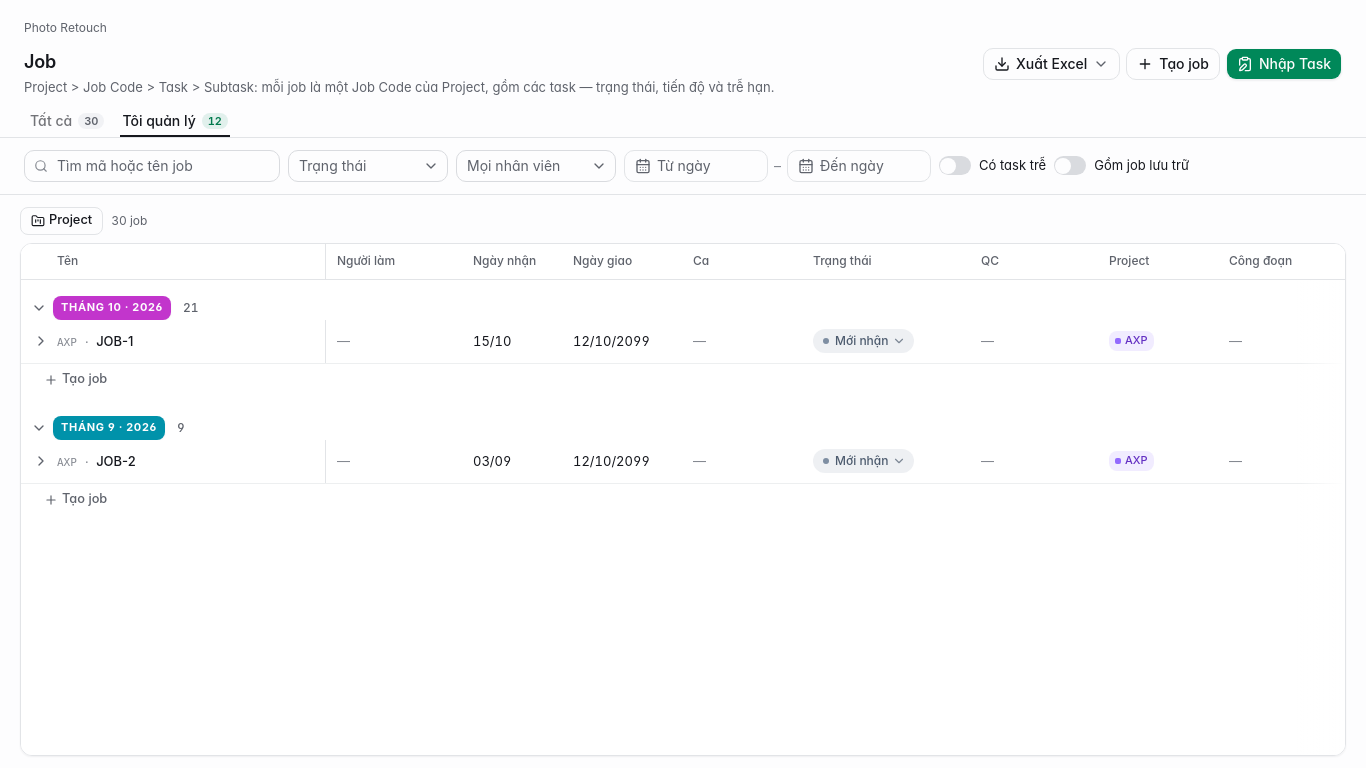
/production/jobs — List view (PD-067) › tablets start with the sidebar folded (room for the table) until the user opens it
This screenshot has width=1366, height=768.
Expected: the row "JOB-1" is shown, [21,320,1346,364]
Click the button "Project": (62, 221) [20,207,103,235]
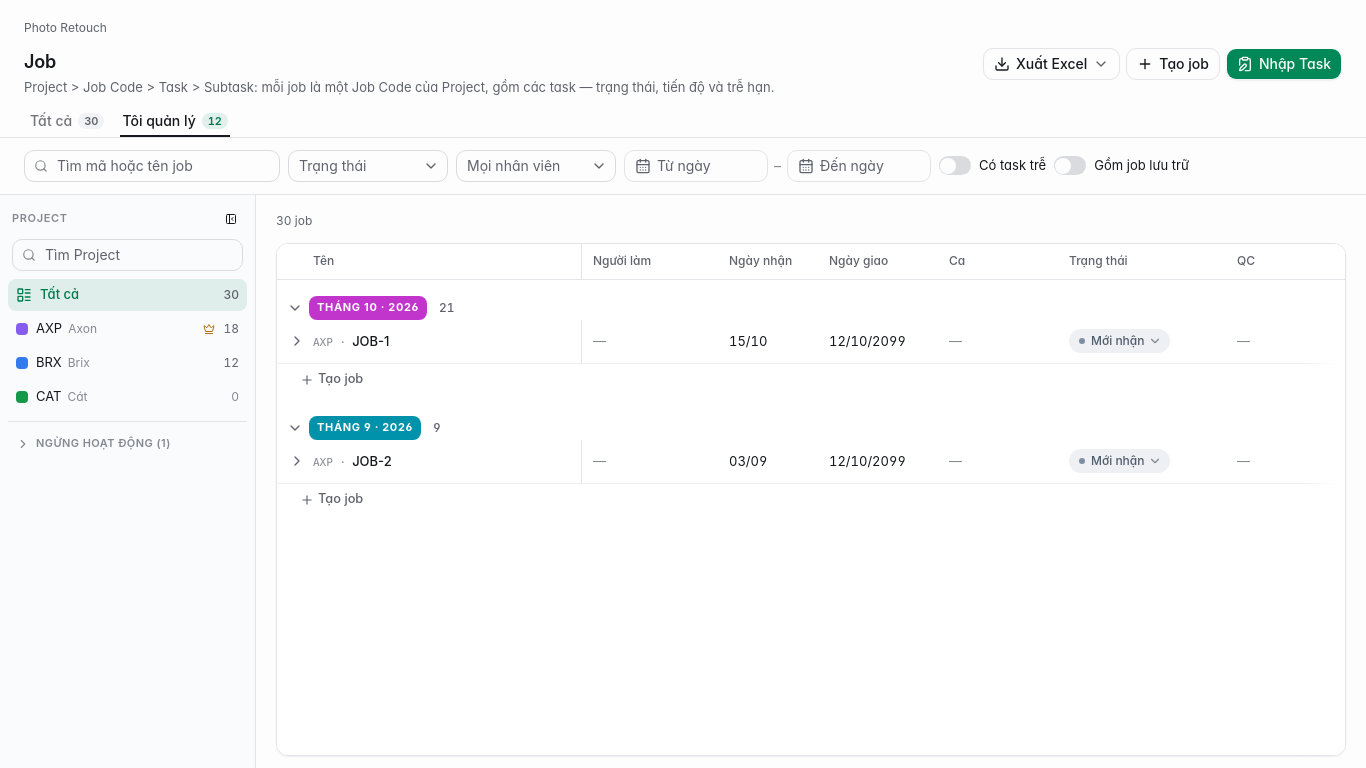
Expected: the element "Project" is shown, [0,195,256,767]
